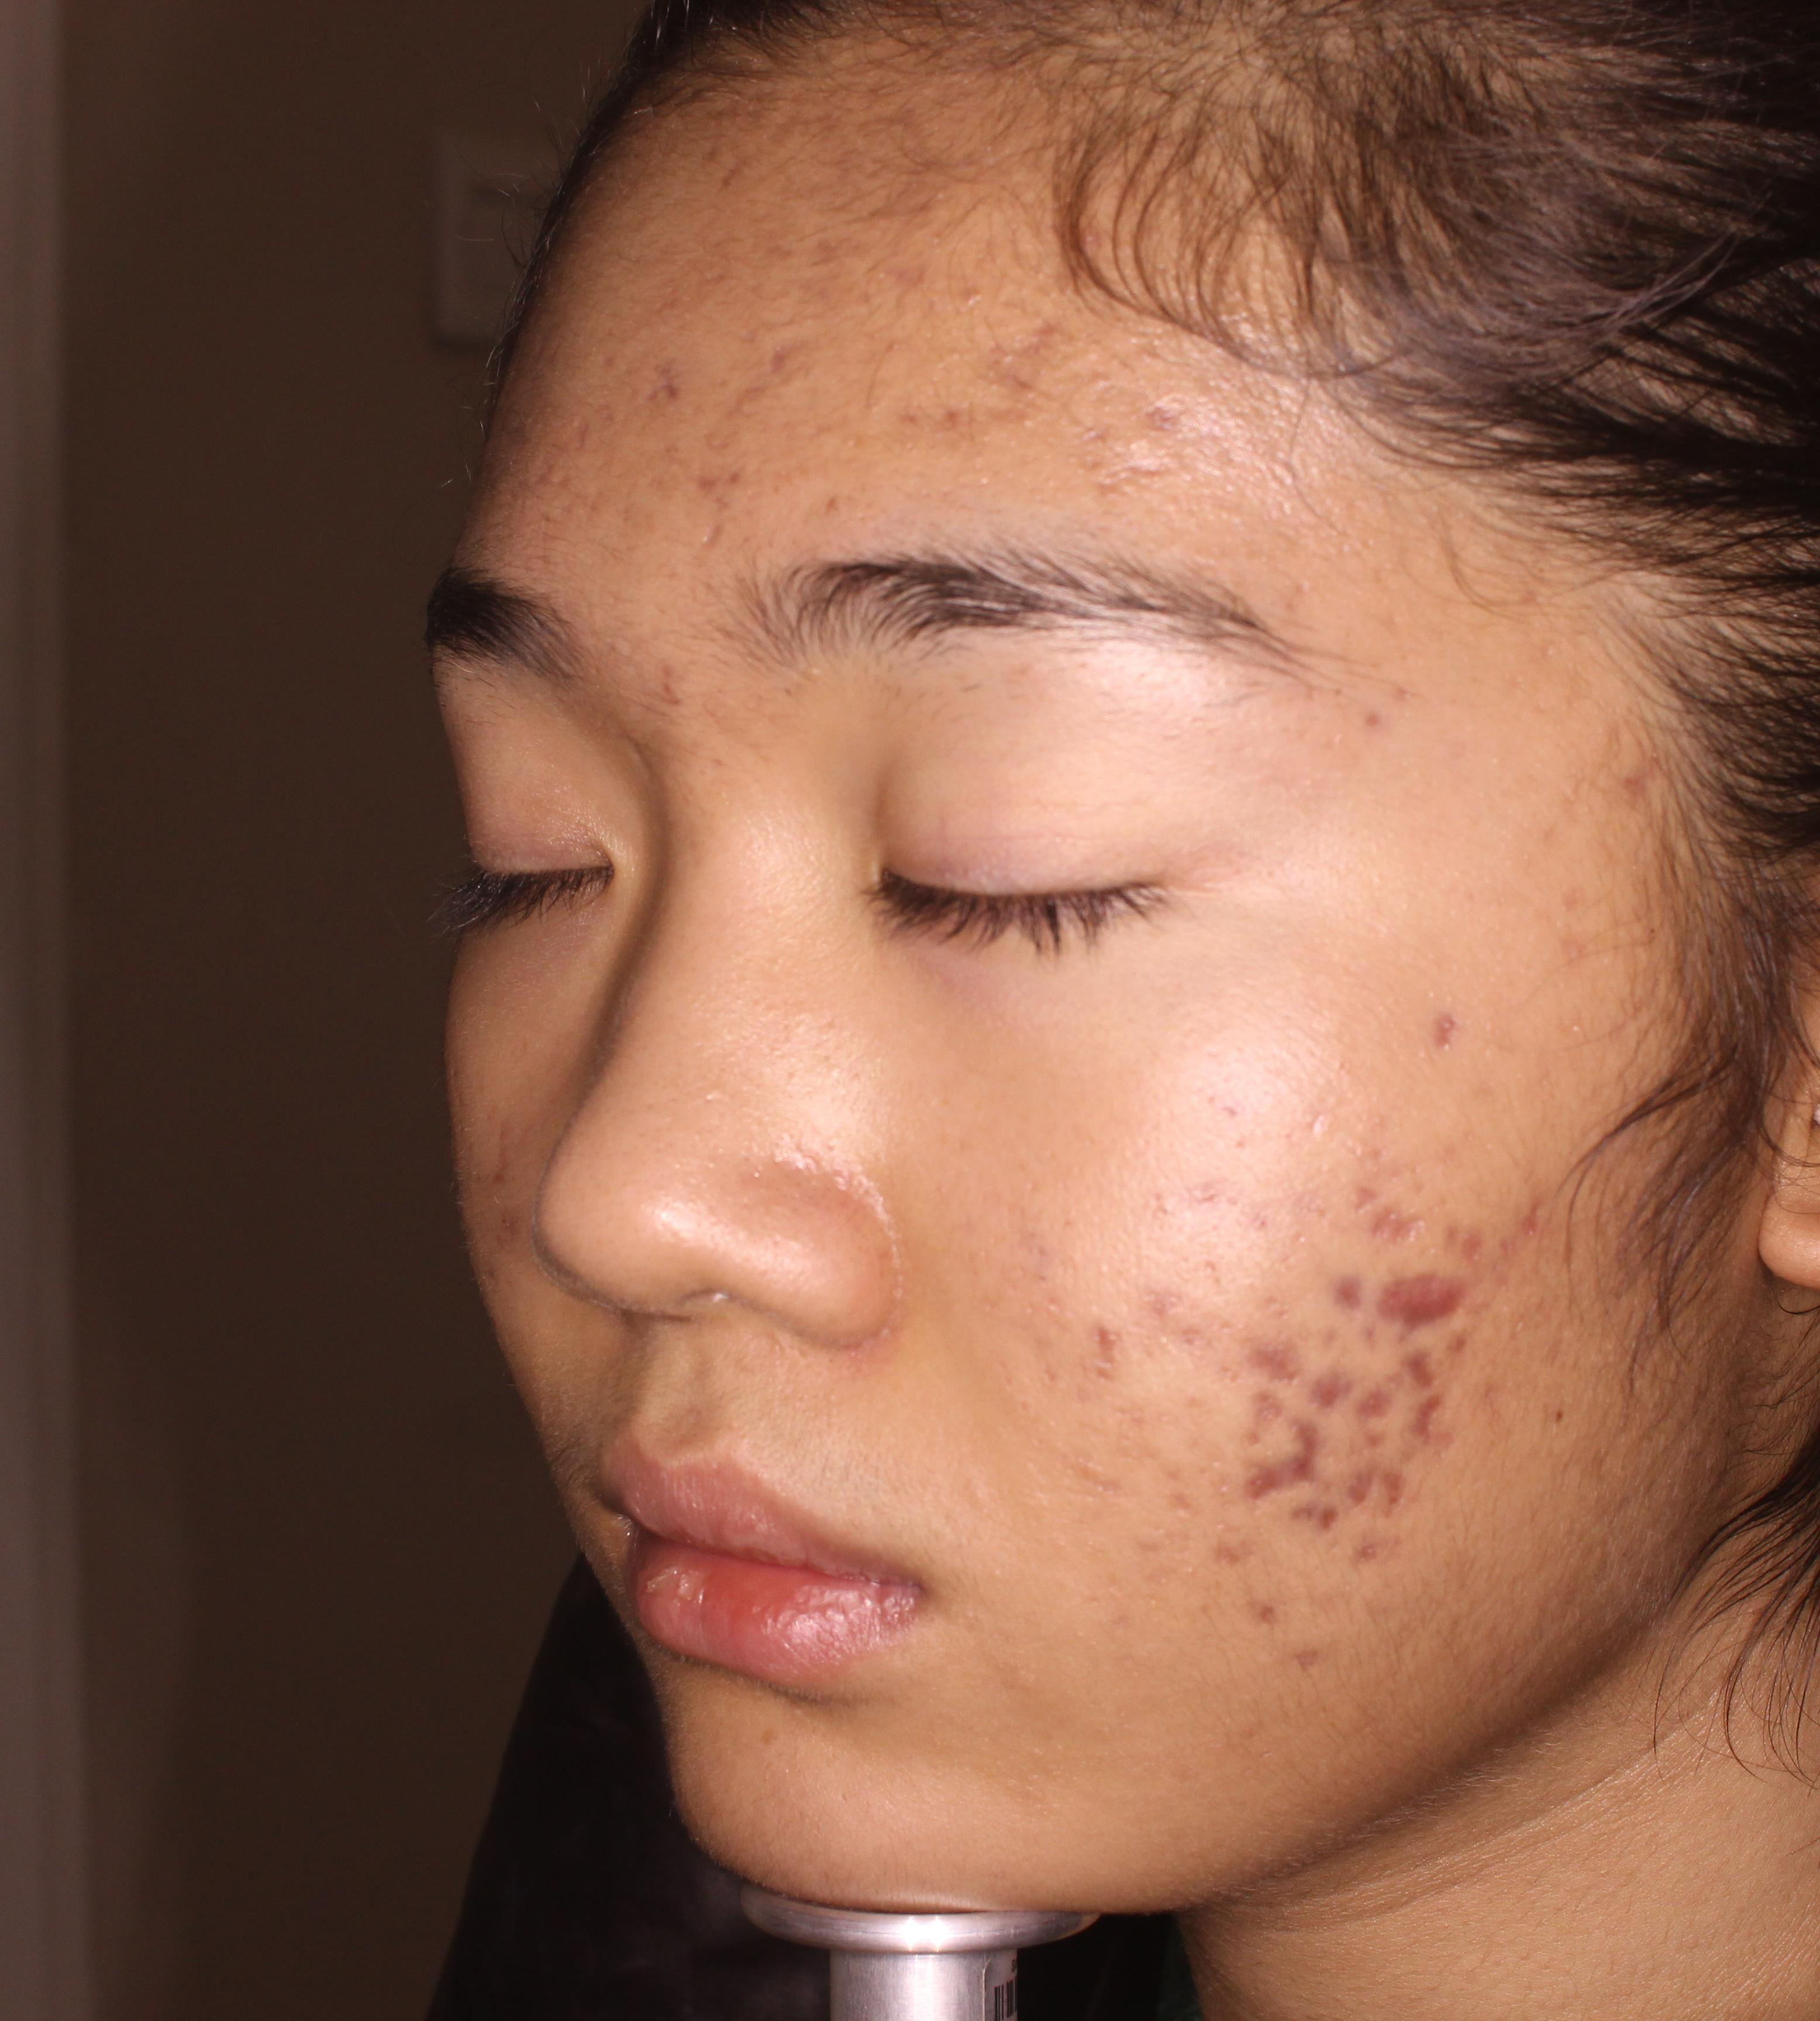fore: (1369, 1248, 1490, 1329), (1400, 1329, 1467, 1464), (1251, 1410, 1337, 1500), (1251, 1315, 1323, 1401), (1354, 1464, 1421, 1540), (1300, 1262, 1363, 1338), (1349, 1366, 1386, 1442)
